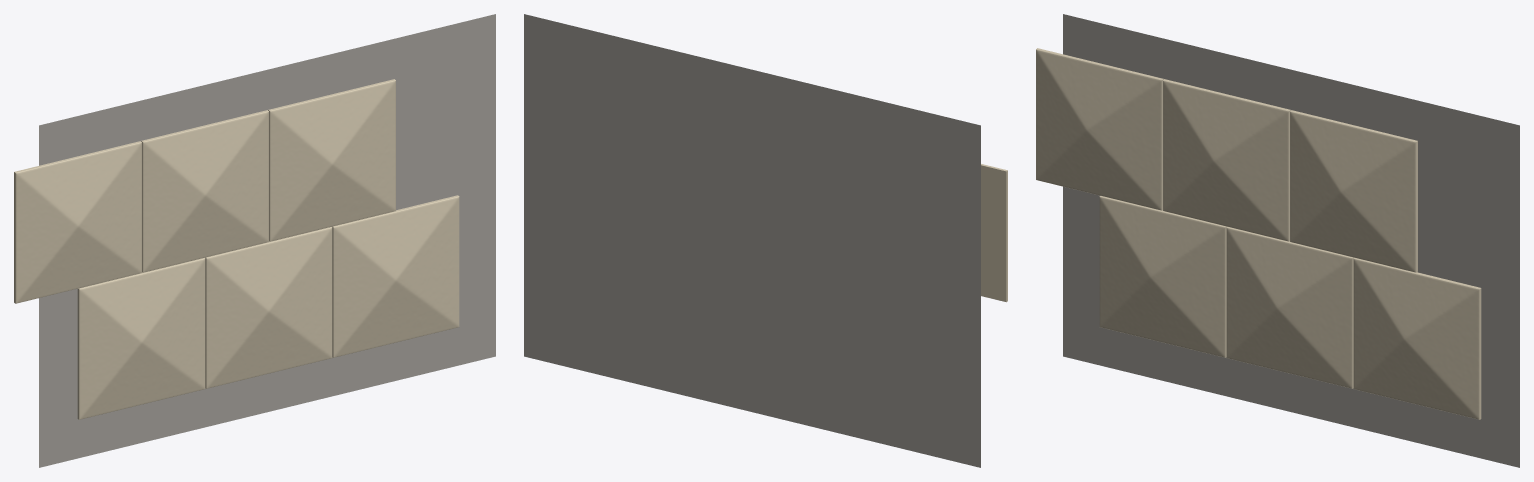
Rendered from terilgan.glb.
3 views of the same model, side by side, from view 1: azimuth 30°, elevation 25°; view 2: azimuth 150°, elevation 25°; view 3: azimuth 330°, elevation 25° (orthographic).
Parts seen in each view (by area): view 1: Plane, t0_0, t1_0, t0_2, t0_1, t1_1, t1_2; view 2: Plane, t1_0; view 3: Plane, t0_2, t1_2, t0_0, t0_1, t1_1, t1_0.
Part boxes in pixels (x1,y1,x2,y2): Plane: (39,14,495,467); t0_0: (77,257,205,419); t1_0: (14,141,141,303); t0_2: (332,195,459,357); t0_1: (205,227,332,388); t1_1: (141,110,268,272); t1_2: (268,79,395,241); Plane: (524,14,980,467); t1_0: (981,164,1007,302); Plane: (1063,14,1519,467); t0_2: (1353,257,1481,419); t1_2: (1290,110,1417,272); t0_0: (1099,196,1226,357); t0_1: (1226,227,1353,388); t1_1: (1163,79,1290,241); t1_0: (1036,48,1163,210).
Bounding box in the file's own units: 1.91 × 1.3 × 0.0534.
